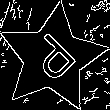P_SE: (22, 28, 83, 89)
